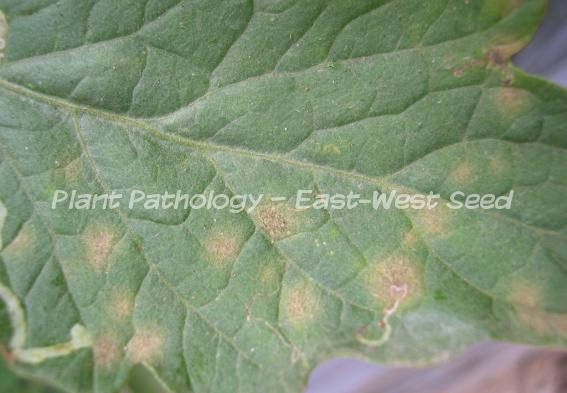Tomato mold leaf: (4, 5, 567, 393)
